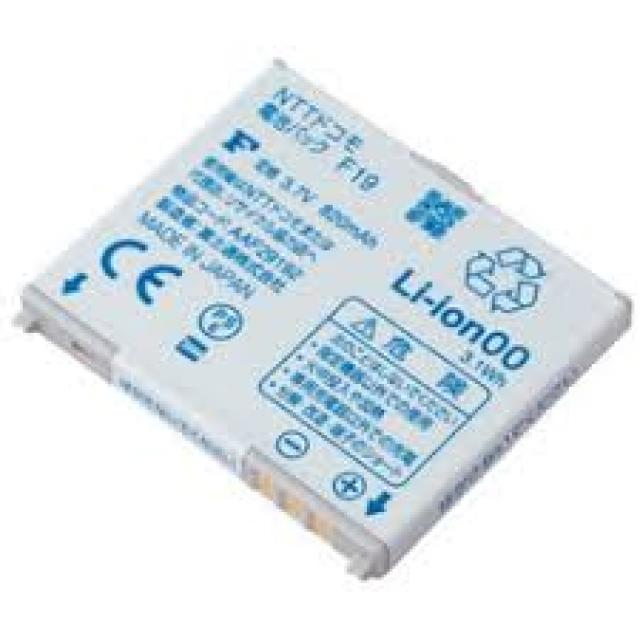non-organic waste: (14, 58, 630, 579)
